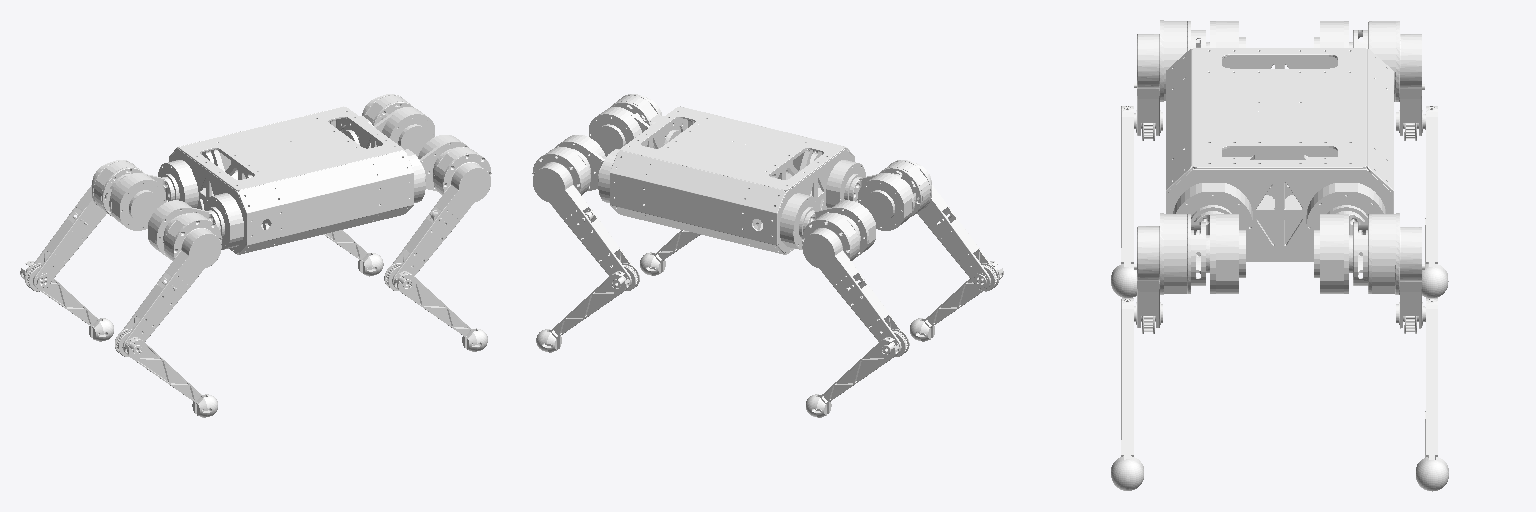
URDF robot description (mdoger7):
<?xml version="1.0" encoding="utf-8"?>
<!-- This URDF was automatically created by SolidWorks to URDF Exporter! Originally created by [author] ([email redacted]) 
     Commit Version: 1.6.0-4-g7f85cfe  Build Version: 1.6.7995.38578
     For more information, please see http://wiki.ros.org/sw_urdf_exporter -->
<robot
  name="mdoger7">
  <link
    name="base_link">
    <inertial>
      <origin
        xyz="0.00010106 -0.00001449 0.04965637"
        rpy="0 0 0" />
      <mass
        value="3.08231817" />
      <inertia
        ixx="0.02256965"
        ixy="0.00000582"
        ixz="0.00000409"
        iyy="0.06340830"
        iyz="0.00000161"
        izz="0.07738183" />
    </inertial>
    <visual>
      <origin
        xyz="0 0 0"
        rpy="0 0 0" />
      <geometry>
        <mesh
          filename="package://mdoger7/meshes/base_link.STL" />
      </geometry>
      <material
        name="">
        <color
          rgba="1 1 1 1" />
      </material>
    </visual>
    <collision>
      <origin
        xyz="0 0 0"
        rpy="0 0 0" />
      <geometry>
        <mesh
          filename="package://mdoger7/meshes/base_link.STL" />
      </geometry>
    </collision>
  </link>
  <link
    name="lf1">
    <inertial>
      <origin
        xyz="-0.01516373 -0.00001750 0.06414061"
        rpy="0 0 0" />
      <mass
        value="0.27830200" />
      <inertia
        ixx="0.00036169"
        ixy="-0.00000013"
        ixz="-0.00002051"
        iyy="0.00025180"
        iyz="-0.00000002"
        izz="0.00018538" />
    </inertial>
    <visual>
      <origin
        xyz="0 0 0"
        rpy="0 0 0" />
      <geometry>
        <mesh
          filename="package://mdoger7/meshes/lf1.STL" />
      </geometry>
      <material
        name="">
        <color
          rgba="1 1 1 1" />
      </material>
    </visual>
    <collision>
      <origin
        xyz="0 0 0"
        rpy="0 0 0" />
      <geometry>
        <mesh
          filename="package://mdoger7/meshes/lf1.STL" />
      </geometry>
    </collision>
  </link>
  <joint
    name="lf1_joint"
    type="revolute">
    <origin
      xyz="0.2043 0.08 0.05825"
      rpy="1.5708 0.0011541 1.5708" />
    <parent
      link="base_link" />
    <child
      link="lf1" />
    <axis
      xyz="0 0 -1" />
    <limit
      lower="-0.174"
      upper="0.174"
      effort="100"
      velocity="1" />
  </joint>
  <link
    name="lf2">
    <inertial>
      <origin
        xyz="0.02094234 -0.02074639 0.04952985"
        rpy="0 0 0" />
      <mass
        value="0.44448058" />
      <inertia
        ixx="0.00132496"
        ixy="-0.00092284"
        ixz="0.00024164"
        iyy="0.00133160"
        iyz="-0.00024008"
        izz="0.00222455" />
    </inertial>
    <visual>
      <origin
        xyz="0 0 0"
        rpy="0 0 0" />
      <geometry>
        <mesh
          filename="package://mdoger7/meshes/lf2.STL" />
      </geometry>
      <material
        name="">
        <color
          rgba="1 1 1 1" />
      </material>
    </visual>
    <collision>
      <origin
        xyz="0 0 0"
        rpy="0 0 0" />
      <geometry>
        <mesh
          filename="package://mdoger7/meshes/lf2.STL" />
      </geometry>
    </collision>
  </link>
  <joint
    name="lf2_joint"
    type="revolute">
    <origin
      xyz="0.0031 0.00000358 0.069"
      rpy="0 1.5708 0" />
    <parent
      link="lf1" />
    <child
      link="lf2" />
    <axis
      xyz="0 -0.0011541 -1" />
    <limit
      lower="-0.523"
      upper="0.523"
      effort="100"
      velocity="1" />
  </joint>
  <link
    name="lf3">
    <inertial>
      <origin
        xyz="-0.05292001 -0.05290891 0.00005762"
        rpy="0 0 0" />
      <mass
        value="0.03645433" />
      <inertia
        ixx="0.00008241"
        ixy="0.00007839"
        ixz="-0.00000009"
        iyy="0.00008271"
        iyz="-0.00000009"
        izz="0.00016406" />
    </inertial>
    <visual>
      <origin
        xyz="0 0 0"
        rpy="0 0 0" />
      <geometry>
        <mesh
          filename="package://mdoger7/meshes/lf3.STL" />
      </geometry>
      <material
        name="">
        <color
          rgba="1 1 1 1" />
      </material>
    </visual>
    <collision>
      <origin
        xyz="0 0 0"
        rpy="0 0 0" />
      <geometry>
        <mesh
          filename="package://mdoger7/meshes/lf3.STL" />
      </geometry>
    </collision>
  </link>
  <joint
    name="lf3_joint"
    type="revolute">
    <origin
      xyz="0.14849 -0.14838 0.099471"
      rpy="0 0 0" />
    <parent
      link="lf2" />
    <child
      link="lf3" />
    <axis
      xyz="0 0.0011541 1" />
    <limit
      lower="-0.523"
      upper="0.523"
      effort="100"
      velocity="1" />
  </joint>
  <link
    name="lf_foot">
    <inertial>
      <origin
        xyz="0 0.00002498 0.00028212"
        rpy="0 0 0" />
      <mass
        value="0.03108367" />
      <inertia
        ixx="0.00000596"
        ixy="0"
        ixz="0"
        iyy="0.00000576"
        iyz="0"
        izz="0.00000548" />
    </inertial>
    <visual>
      <origin
        xyz="0 0 0"
        rpy="0 0 0" />
      <geometry>
        <mesh
          filename="package://mdoger7/meshes/lf_foot.STL" />
      </geometry>
      <material
        name="">
        <color
          rgba="1 1 1 1" />
      </material>
    </visual>
    <collision>
      <origin
        xyz="0 0 0"
        rpy="0 0 0" />
      <geometry>
        <mesh
          filename="package://mdoger7/meshes/lf_foot.STL" />
      </geometry>
    </collision>
  </link>
  <joint
    name="lf_foot_joint"
    type="fixed">
    <origin
      xyz="-0.14426 -0.14581 0.00072578"
      rpy="1.5716 0.0008161 2.3562" />
    <parent
      link="lf3" />
    <child
      link="lf_foot" />
    <axis
      xyz="0 0 0" />
  </joint>
  <link
    name="rf1">
    <inertial>
      <origin
        xyz="-0.01516373 0.00001750 -0.06414061"
        rpy="0 0 0" />
      <mass
        value="0.27830200" />
      <inertia
        ixx="0.00036169"
        ixy="0.0000013"
        ixz="0.00002051"
        iyy="0.00025180"
        iyz="-0.00000002"
        izz="0.00018538" />
    </inertial>
    <visual>
      <origin
        xyz="0 0 0"
        rpy="0 0 0" />
      <geometry>
        <mesh
          filename="package://mdoger7/meshes/rf1.STL" />
      </geometry>
      <material
        name="">
        <color
          rgba="1 1 1 1" />
      </material>
    </visual>
    <collision>
      <origin
        xyz="0 0 0"
        rpy="0 0 0" />
      <geometry>
        <mesh
          filename="package://mdoger7/meshes/rf1.STL" />
      </geometry>
    </collision>
  </link>
  <joint
    name="rf1_joint"
    type="revolute">
    <origin
      xyz="0.2043 -0.08 0.05825"
      rpy="1.5708 -0.0011541 -1.5708" />
    <parent
      link="base_link" />
    <child
      link="rf1" />
    <axis
      xyz="0 0 1" />
    <limit
      lower="-0.174"
      upper="0.174"
      effort="100"
      velocity="1" />
  </joint>
  <link
    name="rf2">
    <inertial>
      <origin
        xyz="-0.02094116 -0.02085936 0.04948201"
        rpy="0 0 0" />
      <mass
        value="0.44447934" />
      <inertia
        ixx="0.00132484"
        ixy="0.00092328"
        ixz="-0.00023951"
        iyy="0.00133038"
        iyz="-0.00023802"
        izz="0.00222543" />
    </inertial>
    <visual>
      <origin
        xyz="0 0 0"
        rpy="0 0 0" />
      <geometry>
        <mesh
          filename="package://mdoger7/meshes/rf2.STL" />
      </geometry>
      <material
        name="">
        <color
          rgba="1 1 1 1" />
      </material>
    </visual>
    <collision>
      <origin
        xyz="0 0 0"
        rpy="0 0 0" />
      <geometry>
        <mesh
          filename="package://mdoger7/meshes/rf2.STL" />
      </geometry>
    </collision>
  </link>
  <joint
    name="rf2_joint"
    type="revolute">
    <origin
      xyz="0.0031 -0.00000358 -0.069"
      rpy="0 1.5708 0" />
    <parent
      link="rf1" />
    <child
      link="rf2" />
    <axis
      xyz="0 0.0011541 -1" />
    <limit
      lower="-0.523"
      upper="0.523"
      effort="100"
      velocity="1" />
  </joint>
  <link
    name="rf3">
    <inertial>
      <origin
        xyz="0.05290887 -0.05292004 -0.00006452"
        rpy="0 0 0" />
      <mass
        value="0.03645433" />
      <inertia
        ixx="0.00008272"
        ixy="-0.00007839"
        ixz="-0.00000009"
        iyy="0.00008241"
        iyz="0.00000009"
        izz="0.00016406" />
    </inertial>
    <visual>
      <origin
        xyz="0 0 0"
        rpy="0 0 0" />
      <geometry>
        <mesh
          filename="package://mdoger7/meshes/rf3.STL" />
      </geometry>
      <material
        name="">
        <color
          rgba="1 1 1 1" />
      </material>
    </visual>
    <collision>
      <origin
        xyz="0 0 0"
        rpy="0 0 0" />
      <geometry>
        <mesh
          filename="package://mdoger7/meshes/rf3.STL" />
      </geometry>
    </collision>
  </link>
  <joint
    name="rf3_joint"
    type="revolute">
    <origin
      xyz="-0.14849 -0.14861 0.099129"
      rpy="0 0 0" />
    <parent
      link="rf2" />
    <child
      link="rf3" />
    <axis
      xyz="0 -0.0011541 1" />
    <limit
      lower="-0.523"
      upper="0.523"
      effort="100"
      velocity="1" />
  </joint>
  <link
    name="rf_foot">
    <inertial>
      <origin
        xyz="0 -0.00002497 0.00028212"
        rpy="0 0 0" />
      <mass
        value="0.03108367" />
      <inertia
        ixx="0.00000596"
        ixy="0"
        ixz="0"
        iyy="0.00000576"
        iyz="0"
        izz="0.00000548" />
    </inertial>
    <visual>
      <origin
        xyz="0 0 0"
        rpy="0 0 0" />
      <geometry>
        <mesh
          filename="package://mdoger7/meshes/rf_foot.STL" />
      </geometry>
      <material
        name="">
        <color
          rgba="1 1 1 1" />
      </material>
    </visual>
    <collision>
      <origin
        xyz="0 0 0"
        rpy="0 0 0" />
      <geometry>
        <mesh
          filename="package://mdoger7/meshes/rf_foot.STL" />
      </geometry>
    </collision>
  </link>
  <joint
    name="rf_foot_joint"
    type="fixed">
    <origin
      xyz="0.14496 -0.14496 -0.0001673"
      rpy="-1.57 -0.0008161 0.7854" />
    <parent
      link="rf3" />
    <child
      link="rf_foot" />
    <axis
      xyz="0 0 0" />
  </joint>
  <link
    name="lb1">
    <inertial>
      <origin
        xyz="-0.01516373 -0.00001750 -0.06414061"
        rpy="0 0 0" />
      <mass
        value="0.27830200" />
      <inertia
        ixx="0.00036169"
        ixy="-0.00000013"
        ixz="0.00002051"
        iyy="0.00025180"
        iyz="0.00000002"
        izz="0.00018538" />
    </inertial>
    <visual>
      <origin
        xyz="0 0 0"
        rpy="0 0 0" />
      <geometry>
        <mesh
          filename="package://mdoger7/meshes/lb1.STL" />
      </geometry>
      <material
        name="">
        <color
          rgba="1 1 1 1" />
      </material>
    </visual>
    <collision>
      <origin
        xyz="0 0 0"
        rpy="0 0 0" />
      <geometry>
        <mesh
          filename="package://mdoger7/meshes/lb1.STL" />
      </geometry>
    </collision>
  </link>
  <joint
    name="lb1_joint"
    type="revolute">
    <origin
      xyz="-0.2043 0.08 0.05825"
      rpy="1.5708 0.0011541 1.5708" />
    <parent
      link="base_link" />
    <child
      link="lb1" />
    <axis
      xyz="0 0 1" />
    <limit
      lower="-0.174"
      upper="0.174"
      effort="100"
      velocity="1" />
  </joint>
  <link
    name="lb2">
    <inertial>
      <origin
        xyz="0.02084748 -0.02084124 0.04952996"
        rpy="0 0 0" />
      <mass
        value="0.44448058" />
      <inertia
        ixx="0.00132934"
        ixy="-0.00092322"
        ixz="0.00024057"
        iyy="0.00132645"
        iyz="-0.00024115"
        izz="0.00222378" />
    </inertial>
    <visual>
      <origin
        xyz="0 0 0"
        rpy="0 0 0" />
      <geometry>
        <mesh
          filename="package://mdoger7/meshes/lb2.STL" />
      </geometry>
      <material
        name="">
        <color
          rgba="1 1 1 1" />
      </material>
    </visual>
    <collision>
      <origin
        xyz="0 0 0"
        rpy="0 0 0" />
      <geometry>
        <mesh
          filename="package://mdoger7/meshes/lb2.STL" />
      </geometry>
    </collision>
  </link>
  <joint
    name="lb2_joint"
    type="revolute">
    <origin
      xyz="0.0031 0.00000358 -0.069"
      rpy="0 1.5708 0" />
    <parent
      link="lb1" />
    <child
      link="lb2" />
    <axis
      xyz="0 -0.0011541 -1" />
    <limit
      lower="-0.523"
      upper="0.523"
      effort="100"
      velocity="1" />
  </joint>
  <link
    name="lb3">
    <inertial>
      <origin
        xyz="-0.05292005 -0.05290888 0.00005762"
        rpy="0 0 0" />
      <mass
        value="0.03645433" />
      <inertia
        ixx="0.00008241"
        ixy="0.00007839"
        ixz="-0.00000009"
        iyy="0.00008272"
        iyz="-0.00000009"
        izz="0.00016406" />
    </inertial>
    <visual>
      <origin
        xyz="0 0 0"
        rpy="0 0 0" />
      <geometry>
        <mesh
          filename="package://mdoger7/meshes/lb3.STL" />
      </geometry>
      <material
        name="">
        <color
          rgba="1 1 1 1" />
      </material>
    </visual>
    <collision>
      <origin
        xyz="0 0 0"
        rpy="0 0 0" />
      <geometry>
        <mesh
          filename="package://mdoger7/meshes/lb3.STL" />
      </geometry>
    </collision>
  </link>
  <joint
    name="lb3_joint"
    type="revolute">
    <origin
      xyz="0.14849 -0.14838 0.099471"
      rpy="0 0 0" />
    <parent
      link="lb2" />
    <child
      link="lb3" />
    <axis
      xyz="0 0.0011541 1" />
    <limit
      lower="-0.523"
      upper="0.523"
      effort="100"
      velocity="1" />
  </joint>
  <link
    name="lb_foot">
    <inertial>
      <origin
        xyz="0 -0.00002497 0.00028212"
        rpy="0 0 0" />
      <mass
        value="0.03108367" />
      <inertia
        ixx="0.00000596"
        ixy="0"
        ixz="0"
        iyy="0.00000576"
        iyz="0"
        izz="0.00000548" />
    </inertial>
    <visual>
      <origin
        xyz="0 0 0"
        rpy="0 0 0" />
      <geometry>
        <mesh
          filename="package://mdoger7/meshes/lb_foot.STL" />
      </geometry>
      <material
        name="">
        <color
          rgba="1 1 1 1" />
      </material>
    </visual>
    <collision>
      <origin
        xyz="0 0 0"
        rpy="0 0 0" />
      <geometry>
        <mesh
          filename="package://mdoger7/meshes/lb_foot.STL" />
      </geometry>
    </collision>
  </link>
  <joint
    name="lb_foot_joint"
    type="fixed">
    <origin
      xyz="-0.14496 -0.14496 0.0001673"
      rpy="1.5716 0.0008161 2.3562" />
    <parent
      link="lb3" />
    <child
      link="lb_foot" />
    <axis
      xyz="0 0 0" />
  </joint>
  <link
    name="rb1">
    <inertial>
      <origin
        xyz="-0.01516373 0.00001750 0.06414061"
        rpy="0 0 0" />
      <mass
        value="0.27830200" />
      <inertia
        ixx="0.00036169"
        ixy="0.00000013"
        ixz="-0.00002051"
        iyy="0.00025180"
        iyz="0.00000002"
        izz="0.00018538" />
    </inertial>
    <visual>
      <origin
        xyz="0 0 0"
        rpy="0 0 0" />
      <geometry>
        <mesh
          filename="package://mdoger7/meshes/rb1.STL" />
      </geometry>
      <material
        name="">
        <color
          rgba="1 1 1 1" />
      </material>
    </visual>
    <collision>
      <origin
        xyz="0 0 0"
        rpy="0 0 0" />
      <geometry>
        <mesh
          filename="package://mdoger7/meshes/rb1.STL" />
      </geometry>
    </collision>
  </link>
  <joint
    name="rb1_joint"
    type="revolute">
    <origin
      xyz="-0.2043 -0.08 0.05825"
      rpy="1.5708 -0.0011541 -1.5708" />
    <parent
      link="base_link" />
    <child
      link="rb1" />
    <axis
      xyz="0 0 -1" />
    <limit
      lower="-0.174"
      upper="0.174"
      effort="100"
      velocity="1" />
  </joint>
  <link
    name="rb2">
    <inertial>
      <origin
        xyz="-0.02085520 -0.02094531 0.04948143"
        rpy="0 0 0" />
      <mass
        value="0.44447934" />
      <inertia
        ixx="0.00132817"
        ixy="0.00092440"
        ixz="-0.00023851"
        iyy="0.00132626"
        iyz="-0.00023895"
        izz="0.00222465" />
    </inertial>
    <visual>
      <origin
        xyz="0 0 0"
        rpy="0 0 0" />
      <geometry>
        <mesh
          filename="package://mdoger7/meshes/rb2.STL" />
      </geometry>
      <material
        name="">
        <color
          rgba="1 1 1 1" />
      </material>
    </visual>
    <collision>
      <origin
        xyz="0 0 0"
        rpy="0 0 0" />
      <geometry>
        <mesh
          filename="package://mdoger7/meshes/rb2.STL" />
      </geometry>
    </collision>
  </link>
  <joint
    name="rb2_joint"
    type="revolute">
    <origin
      xyz="0.0031 -0.00000358 0.069"
      rpy="0 1.5708 0" />
    <parent
      link="rb1" />
    <child
      link="rb2" />
    <axis
      xyz="0 0.0011541 -1" />
    <limit
      lower="-0.523"
      upper="0.523"
      effort="100"
      velocity="1" />
  </joint>
  <link
    name="rb3">
    <inertial>
      <origin
        xyz="0.05292001 -0.05290891 -0.00005762"
        rpy="0 0 0" />
      <mass
        value="0.03645433" />
      <inertia
        ixx="0.00008241"
        ixy="-0.00007893"
        ixz="-0.00000009"
        iyy="0.00008271"
        iyz="0.00000009"
        izz="0.00016406" />
    </inertial>
    <visual>
      <origin
        xyz="0 0 0"
        rpy="0 0 0" />
      <geometry>
        <mesh
          filename="package://mdoger7/meshes/rb3.STL" />
      </geometry>
      <material
        name="">
        <color
          rgba="1 1 1 1" />
      </material>
    </visual>
    <collision>
      <origin
        xyz="0 0 0"
        rpy="0 0 0" />
      <geometry>
        <mesh
          filename="package://mdoger7/meshes/rb3.STL" />
      </geometry>
    </collision>
  </link>
  <joint
    name="rb3_joint"
    type="revolute">
    <origin
      xyz="-0.14849 -0.14861 0.099129"
      rpy="0 0 0" />
    <parent
      link="rb2" />
    <child
      link="rb3" />
    <axis
      xyz="0 -0.0011541 1" />
    <limit
      lower="-0.523"
      upper="0.523"
      effort="100"
      velocity="1" />
  </joint>
  <link
    name="rb_foot">
    <inertial>
      <origin
        xyz="0 -0.00002497 0.00028212"
        rpy="0 0 0" />
      <mass
        value="0.03108367" />
      <inertia
        ixx="0.00000596"
        ixy="0"
        ixz="0"
        iyy="0.00000576"
        iyz="0"
        izz="0.00000548" />
    </inertial>
    <visual>
      <origin
        xyz="0 0 0"
        rpy="0 0 0" />
      <geometry>
        <mesh
          filename="package://mdoger7/meshes/rb_foot.STL" />
      </geometry>
      <material
        name="">
        <color
          rgba="1 1 1 1" />
      </material>
    </visual>
    <collision>
      <origin
        xyz="0 0 0"
        rpy="0 0 0" />
      <geometry>
        <mesh
          filename="package://mdoger7/meshes/rb_foot.STL" />
      </geometry>
    </collision>
  </link>
  <joint
    name="rb_foot_joint"
    type="fixed">
    <origin
      xyz="0.14496 -0.14496 -0.0001673"
      rpy="-1.57 -0.0008161 0.7854" />
    <parent
      link="rb3" />
    <child
      link="rb_foot" />
    <axis
      xyz="0 0 0" />
  </joint>
</robot>

--- What the picture shows (computed from the rendered views, not written in the file) ---
3 views of the same robot in one strip: view 1: azimuth 30°, elevation 25°; view 2: azimuth 150°, elevation 25°; view 3: azimuth 270°, elevation 25° (orthographic).
Model mdoger7 with 17 links and 16 joints (12 revolute, 4 fixed), rooted at base_link, posed all joints at 0.
Visible links, largest first — view 1: base_link, rf2, rb2, lb2, lb1, lf1, rf3, rb3, rb1, rf1, lb3, lf2 (+1 smaller); view 2: base_link, lf2, lb2, rb2, rb1, rf1, lf3, lb3, lb1, lf1, rb3, rf2 (+1 smaller); view 3: base_link, rf2, lf2, rb2, lb2, rf1, lf1, rf3, rb3, lf3, lb3, rf_foot (+5 smaller).
Boxes of the visible links, x1,y1,x2,y2 form: base_link: [158, 106, 425, 254]; rf2: [384, 147, 491, 290]; rb2: [115, 212, 221, 356]; lb2: [25, 160, 144, 291]; lb1: [109, 173, 174, 230]; lf1: [374, 107, 434, 156]; rf3: [394, 271, 473, 338]; rb3: [124, 337, 203, 403]; rb1: [148, 200, 220, 256]; rf1: [418, 135, 468, 191]; lb3: [20, 261, 99, 327]; lf2: [362, 94, 413, 125]; base_link: [598, 106, 865, 254]; lf2: [532, 147, 639, 290]; lb2: [802, 213, 909, 356]; rb2: [879, 160, 998, 291]; rb1: [849, 173, 914, 230]; rf1: [589, 107, 649, 156]; lf3: [550, 271, 629, 338]; lb3: [820, 337, 899, 403]; lb1: [803, 200, 875, 256]; lf1: [555, 135, 605, 191]; rb3: [924, 261, 1003, 327]; rf2: [610, 94, 661, 125]; base_link: [1166, 48, 1393, 261]; rf2: [1134, 213, 1209, 333]; lf2: [1349, 213, 1425, 333]; rb2: [1134, 20, 1209, 140]; lb2: [1349, 21, 1425, 140]; rf1: [1194, 211, 1245, 293]; lf1: [1314, 211, 1364, 293]; rf3: [1121, 298, 1133, 459]; rb3: [1121, 106, 1133, 266]; lf3: [1425, 298, 1437, 459]; lb3: [1425, 106, 1437, 266]; rf_foot: [1111, 456, 1143, 490].
Bounding box of the posed robot: 0.7681 × 0.4054 × 0.3811 m (x, y, z).
17 mesh visuals loaded from 17 distinct referenced files (17 binary STL).
